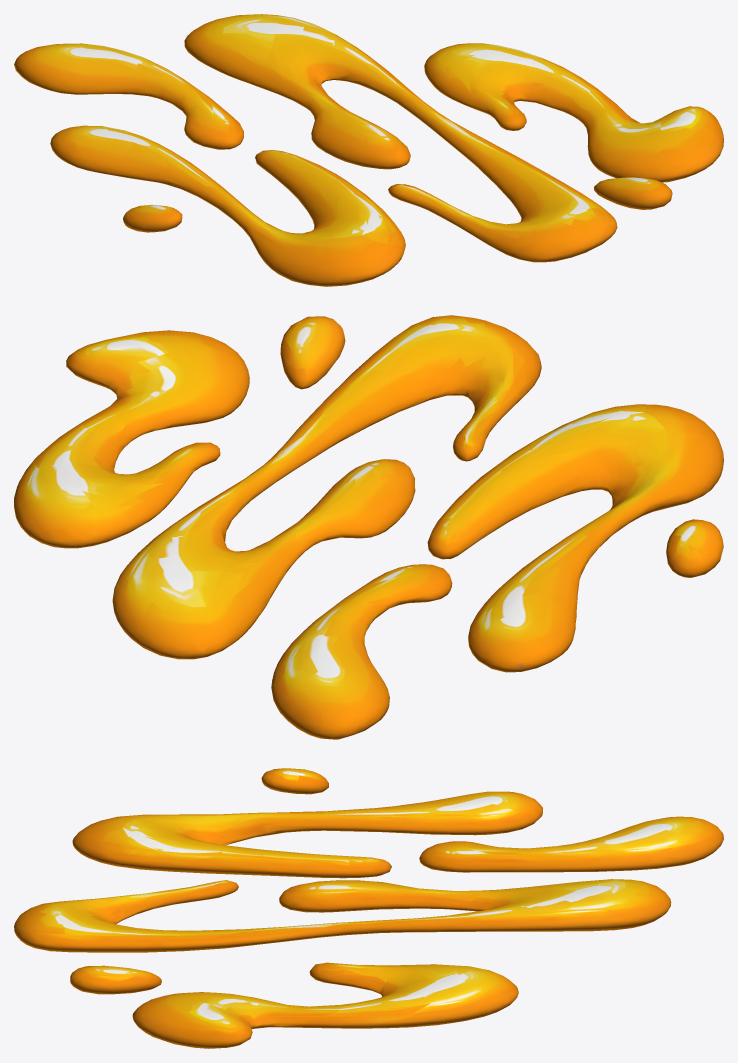
File: SaladMustard.fbx
The picture shows the model from 3 angles, top to bottom: view 1: azimuth 30°, elevation 25°; view 2: azimuth 150°, elevation 25°; view 3: azimuth 270°, elevation 25°; orthographic projection. The views are drawn at different scales.
Parts seen in each view (by area): view 1: SaladMustard; view 2: SaladMustard; view 3: SaladMustard.
Part boxes in pixels (box(x1,y1,x2,y2)): SaladMustard: box(14, 14, 723, 286); SaladMustard: box(14, 315, 723, 739); SaladMustard: box(14, 768, 723, 1048).
Bounding box in the file's own units: 0.5877 × 0.0488 × 0.65.
1 material, 1 textured.
